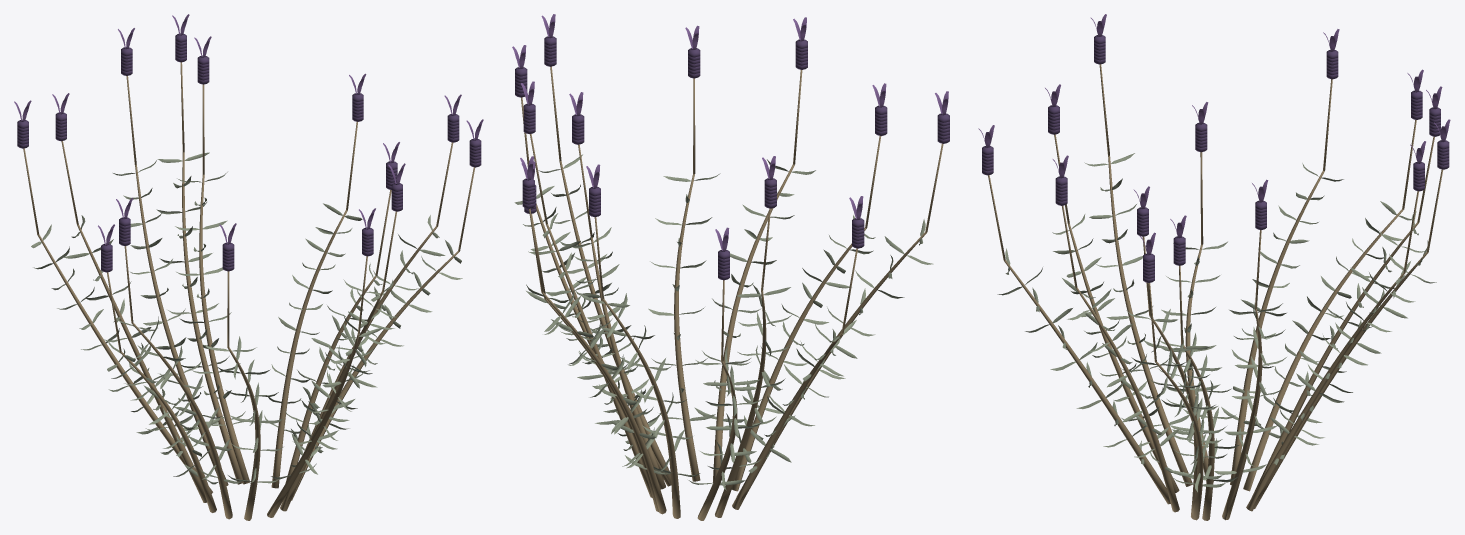
File: Lavande_0_Niveau0.fbx
3 renders of one model, left to right at view 1: azimuth 30°, elevation 25°; view 2: azimuth 150°, elevation 25°; view 3: azimuth 270°, elevation 25°, orthographic. The views are drawn at different scales.
Parts seen in each view (by area): view 1: Lavande_0_Niveau0; view 2: Lavande_0_Niveau0; view 3: Lavande_0_Niveau0.
Part boxes in pixels (bbox=[...]): Lavande_0_Niveau0: bbox=[14, 14, 483, 520]; Lavande_0_Niveau0: bbox=[512, 14, 949, 520]; Lavande_0_Niveau0: bbox=[978, 14, 1450, 520].
Size of the model in its own units: 49.14 by 47.9 by 50.37.
